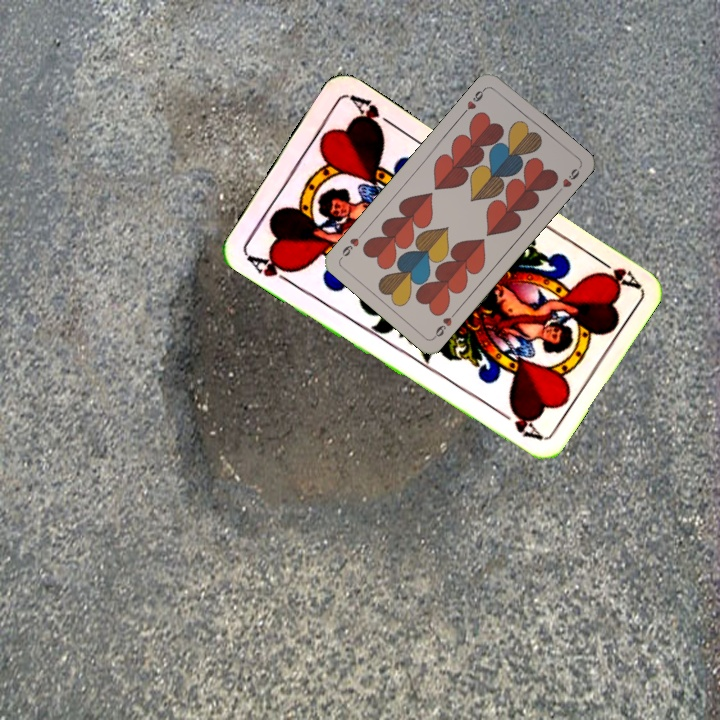H9: (458, 84, 489, 117), (430, 307, 460, 341)
HA: (242, 249, 300, 287), (588, 250, 641, 291)
